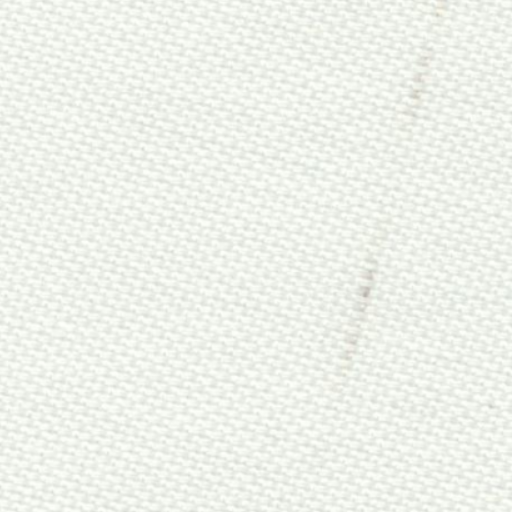WuZi: (320, 6, 454, 402)
